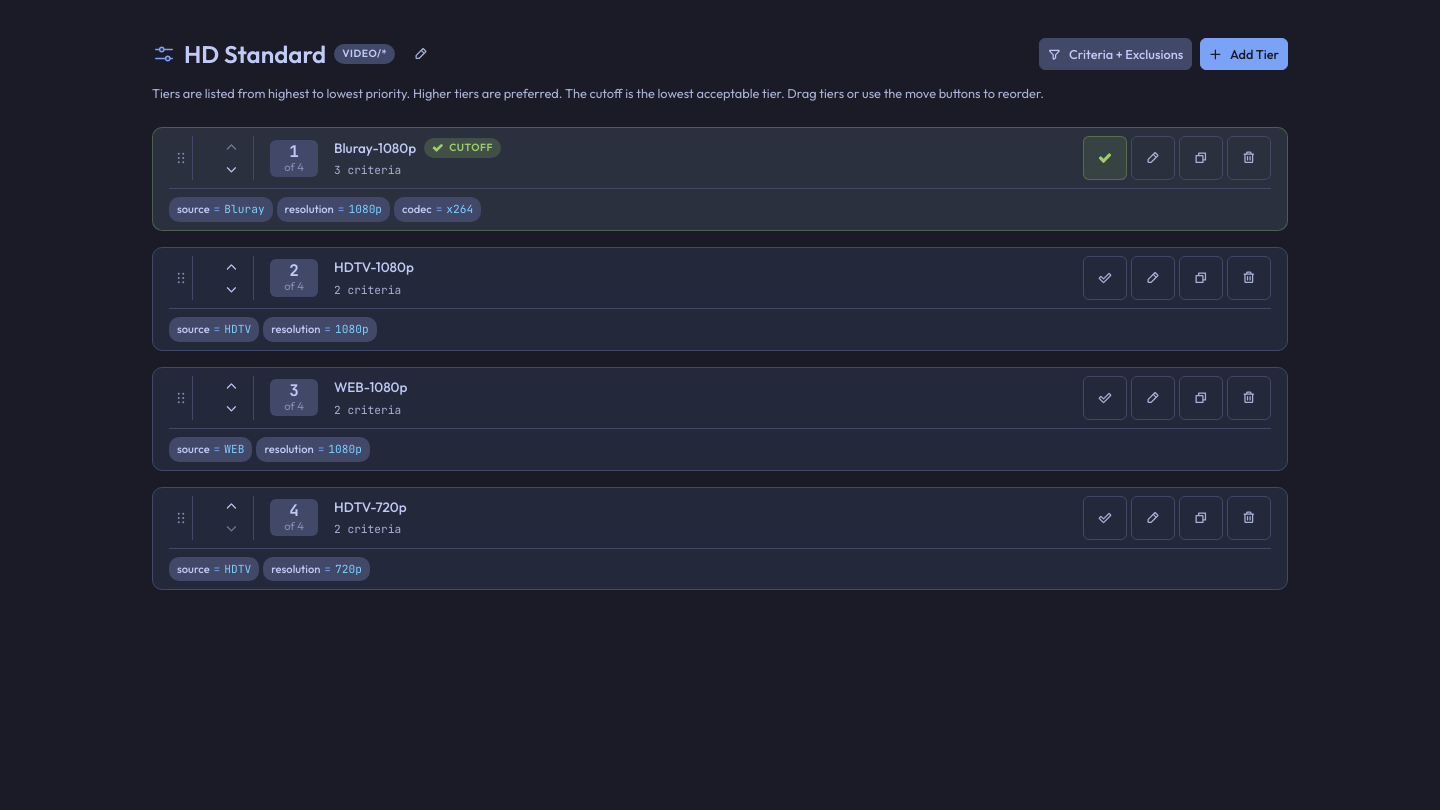
TierListDetailPage delete confirmation › opens confirmation dialog when delete is clicked
The width and height of the screenshot is (1440, 810).
Expected: the list item that starts with "Bluray-1080p" is shown, [152,127,1288,231]
Click the button named "Delete Bluray-1080p" at (1249, 158), box [1227,136,1271,180]
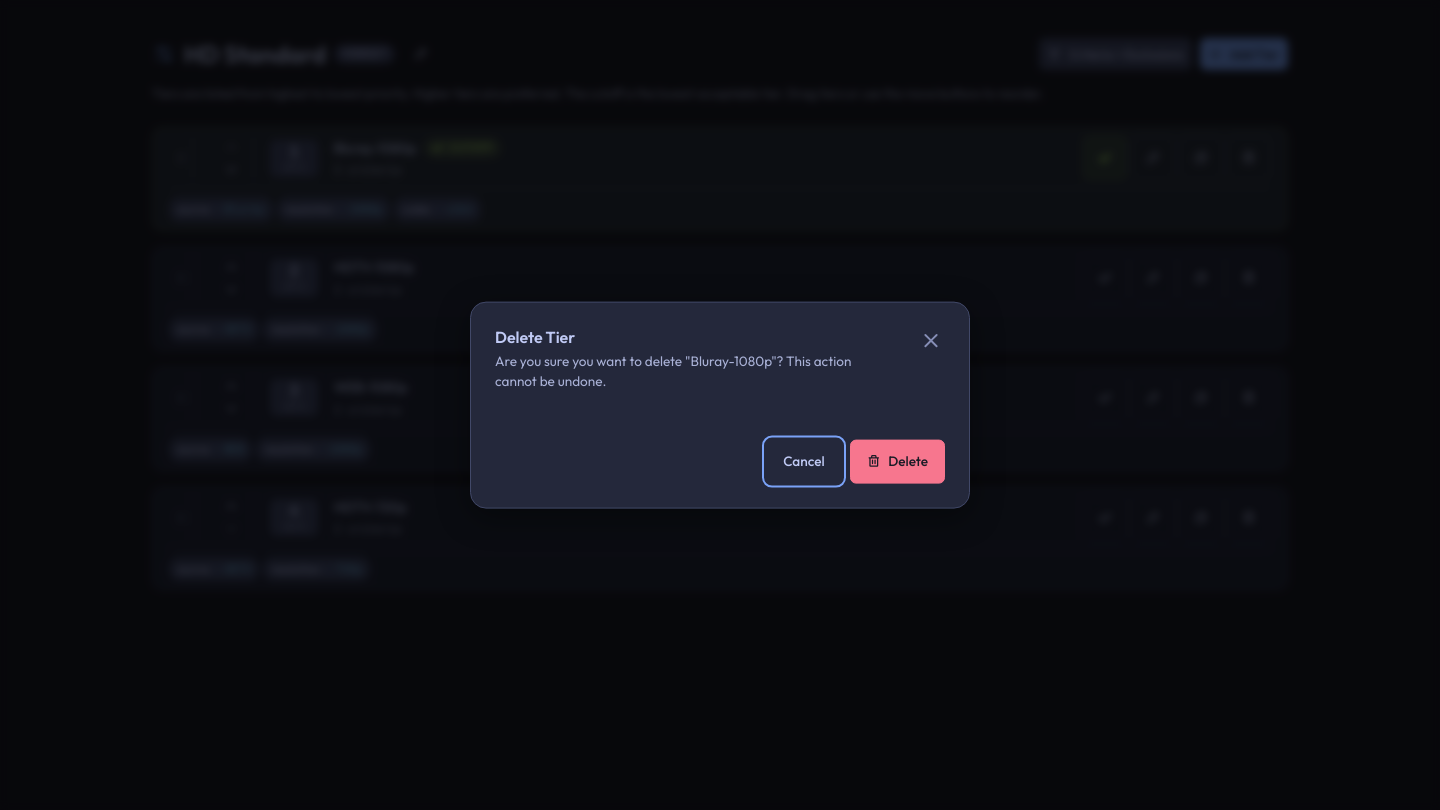
Expected: the heading "Delete Tier" is shown, [495,327,575,347]
Expected: the text "Are you sure you want to delete \"Bluray-1080p\"?" is shown, [495,351,893,391]
